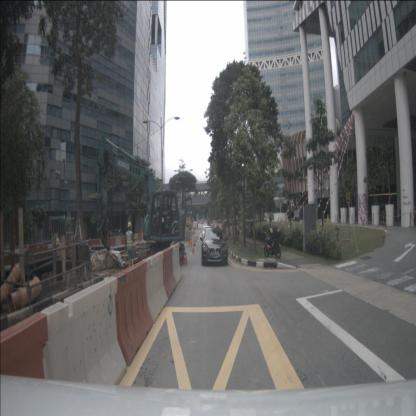barrier: (40, 276, 128, 415), (114, 260, 154, 367), (142, 250, 169, 325), (159, 247, 178, 300), (170, 242, 183, 286), (91, 238, 101, 251), (109, 236, 116, 248), (115, 236, 122, 247), (121, 235, 127, 246), (138, 233, 142, 244), (134, 233, 138, 244)
cone: (182, 246, 188, 266), (191, 240, 195, 253), (326, 214, 330, 223), (193, 236, 195, 246)
